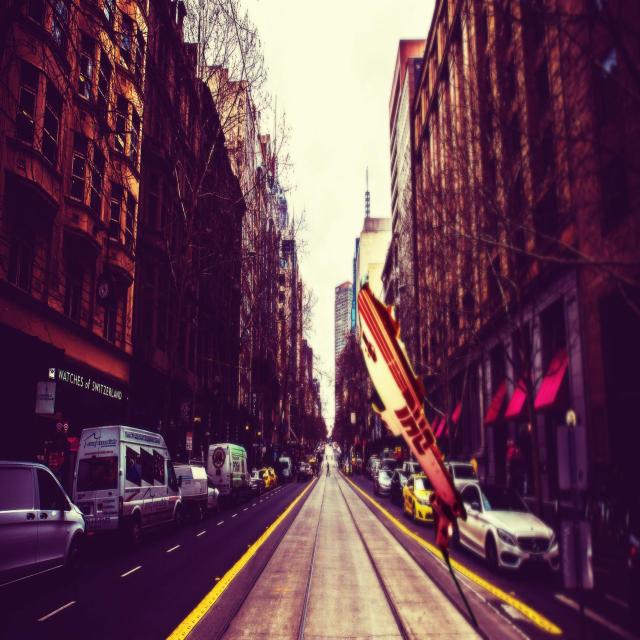airplane: (356, 286, 479, 625)
